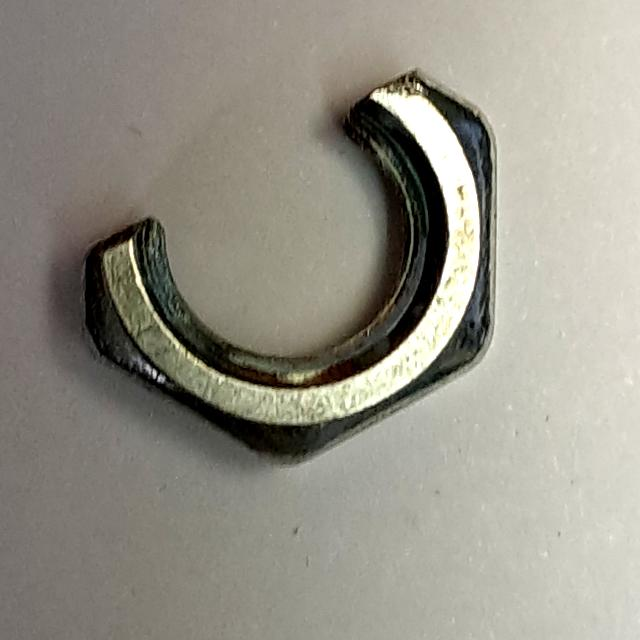Fracture: (64, 55, 521, 481)
